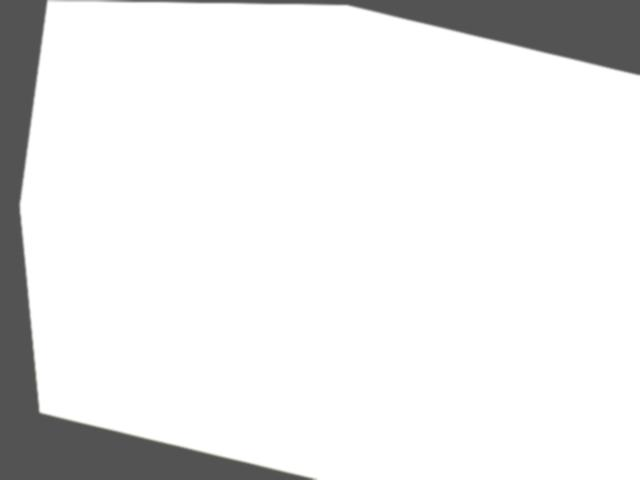iha: (357, 154, 443, 208)
